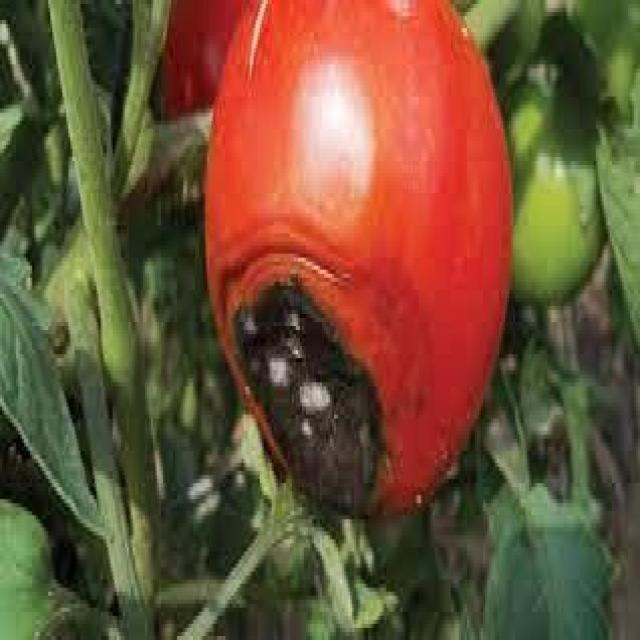Blossom End Rot Fruit: (148, 184, 256, 342)
